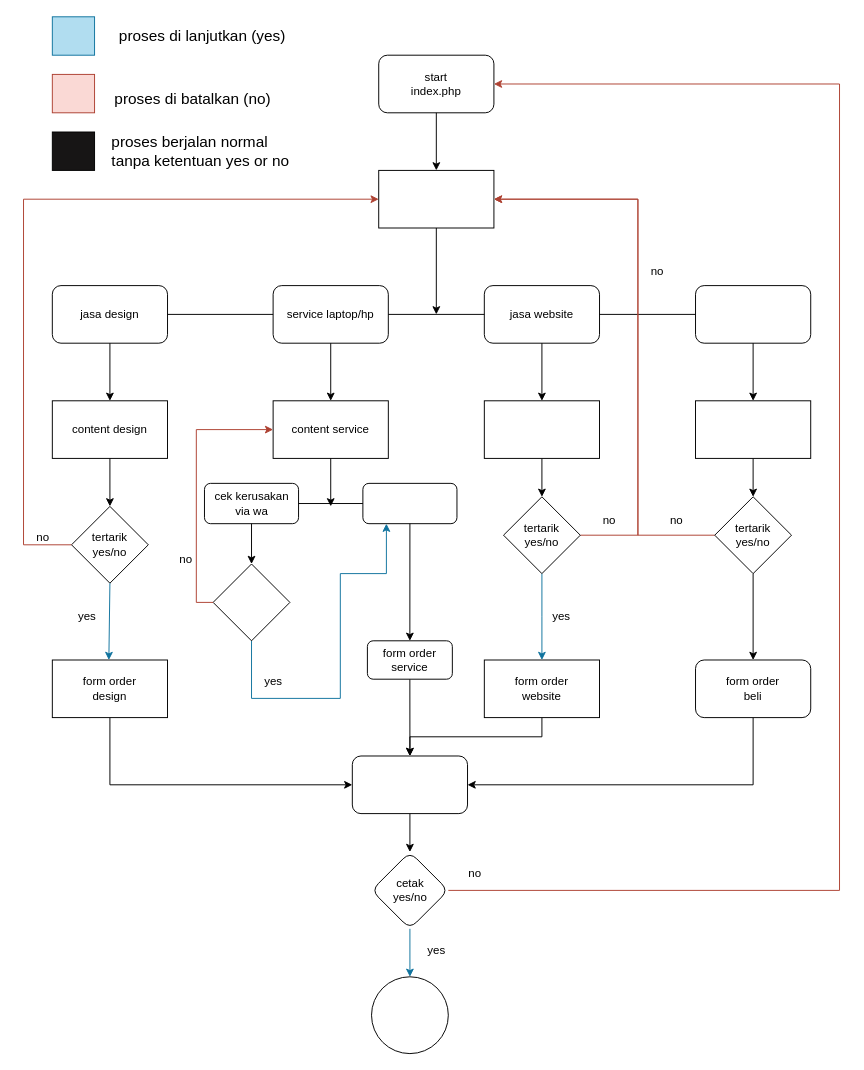
Image size: 864x1070. Some labels were removed from this diagram. The shapes that lost their labels are listed below. From the top down, each one's box as (x1, y1, x2, y2) in pixels, then its label:
(378, 169, 494, 228): navbar content
(695, 285, 811, 343): beli
(483, 400, 600, 458): content website
(695, 400, 811, 458): content beli
(362, 482, 457, 524): order service
(212, 563, 290, 641): lanjut service yes/no
(351, 755, 468, 814): invoice
(371, 976, 448, 1054): selesai
